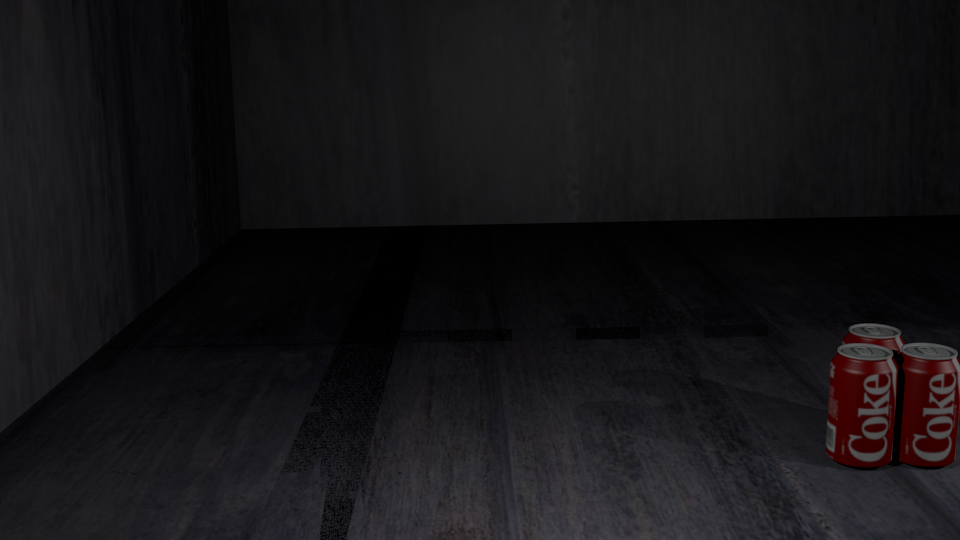cola_can: (829, 344, 897, 464), (893, 343, 959, 462), (845, 324, 905, 437)
